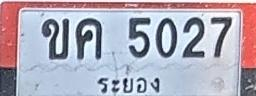0: (155, 17, 177, 58)
2: (182, 17, 204, 58)
5: (128, 17, 150, 58)
7: (210, 16, 232, 58)
A02: (41, 18, 69, 59)
A04: (76, 18, 102, 60)
RYG: (90, 73, 166, 96)
